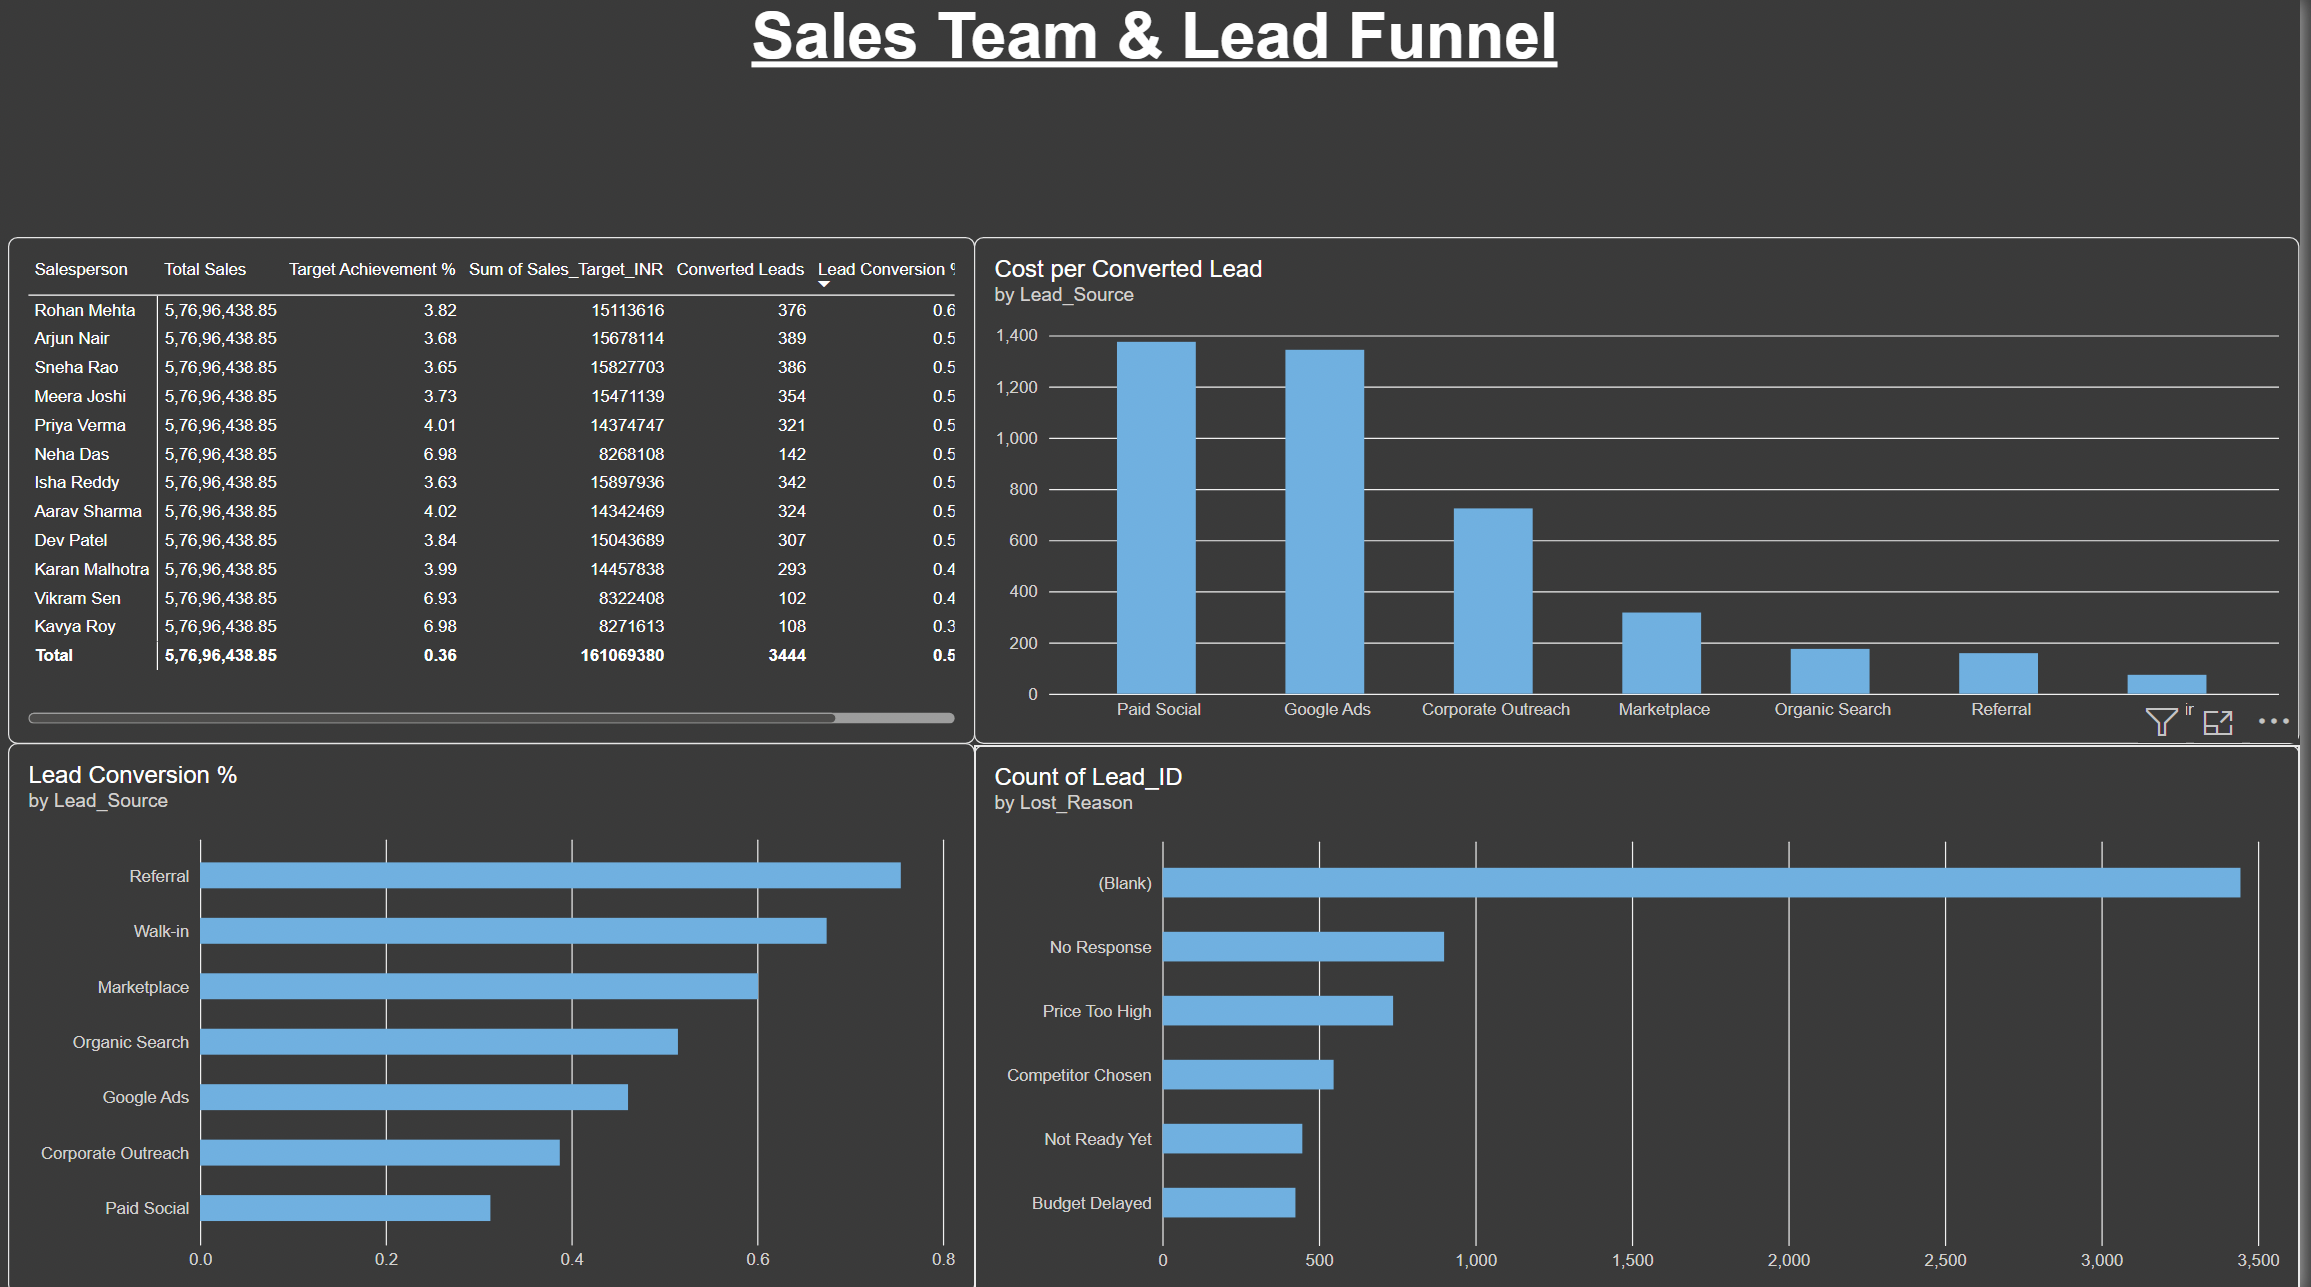

This screenshot's page, from the dashboard's own definition file:
{"tool":"powerbi","page":{"name":"Sales Team & Leads","canvas":[1920,1080],"ordinal":3},"visuals":[{"type":"textbox","box":[9.2,0,1910.8,112.5],"z":0},{"type":"pivotTable","fields":{"Rows":["DimSalesperson.Salesperson"],"Values":["SalesTransactionsTable.Total Sales","SalesTransactionsTable.Target Achievement %","Sum(MonthlyTargetsTable.Sales_Target_INR)","SalesTransactionsTable.Converted Leads","SalesTransactionsTable.Lead Conversion %","SalesTransactionsTable.Total Leads"]},"box":[9.2,197.5,806.1,422.6],"z":1000},{"type":"barChart","fields":{"Category":["LeadsPipelineTable.Lead_Source"],"Y":["SalesTransactionsTable.Lead Conversion %"]},"box":[9.2,620.1,806.1,459.3],"z":2000},{"type":"columnChart","fields":{"Category":["LeadsPipelineTable.Lead_Source"],"Y":["SalesTransactionsTable.Cost per Converted Lead"]},"box":[815.3,197.5,1104.7,422.6],"z":3000},{"type":"barChart","fields":{"Category":["LeadsPipelineTable.Lost_Reason"],"Y":["CountNonNull(LeadsPipelineTable.Lead_ID)"]},"box":[815,621,1105,458],"z":4000}]}

Visuals, with their boxes in screenshot pixels (x1, y1, x2, y2), scaled from the page's 1920x1080 canvas onto the 2311x1287 screenshot:
textbox: x1=11 y1=0 x2=2310 y2=134
pivotTable - DimSalesperson.Salesperson x SalesTransactionsTable.Total Sales: x1=11 y1=235 x2=981 y2=739
barChart - LeadsPipelineTable.Lead_Source x SalesTransactionsTable.Lead Conversion %: x1=11 y1=739 x2=981 y2=1286
columnChart - LeadsPipelineTable.Lead_Source x SalesTransactionsTable.Cost per Converted Lead: x1=981 y1=235 x2=2310 y2=739
barChart - LeadsPipelineTable.Lost_Reason x CountNonNull(LeadsPipelineTable.Lead_ID): x1=981 y1=740 x2=2310 y2=1286
